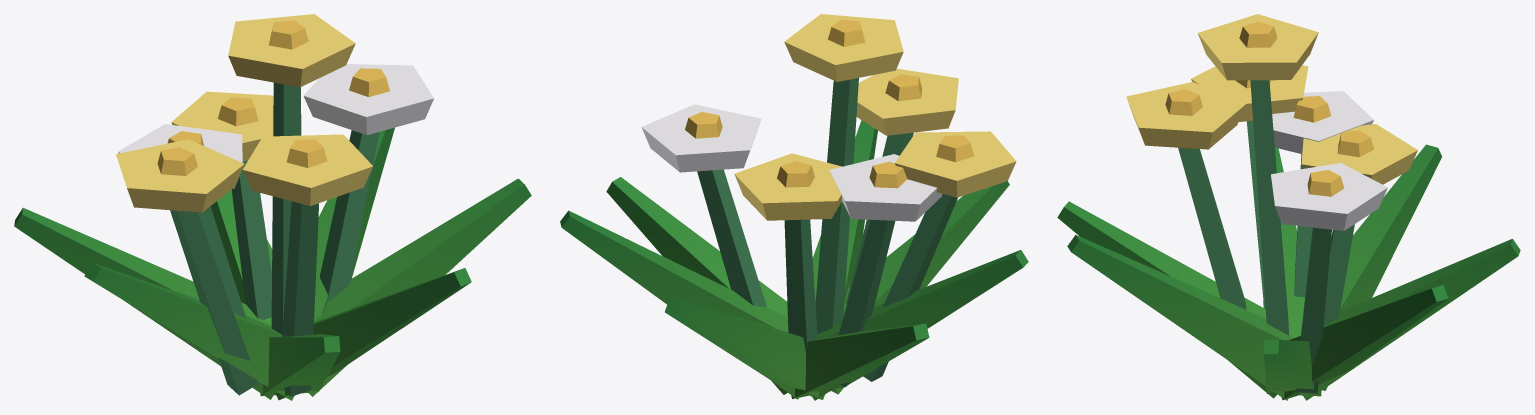
File: flowers_yellow.d67214643d.gltf
3 views of the same model, side by side, from view 1: azimuth 30°, elevation 25°; view 2: azimuth 150°, elevation 25°; view 3: azimuth 270°, elevation 25° (orthographic). The views are drawn at different scales.
Parts seen in each view (by area): view 1: flowers_yellow; view 2: flowers_yellow; view 3: flowers_yellow.
Boxes of the visible parts, <box> form: flowers_yellow: <box>14,14,531,400</box>; flowers_yellow: <box>560,14,1028,400</box>; flowers_yellow: <box>1057,14,1520,400</box>.
Bounding box in the file's own units: 0.5217 × 0.4266 × 0.5086.
Materials: 1 (1 with a texture image).
